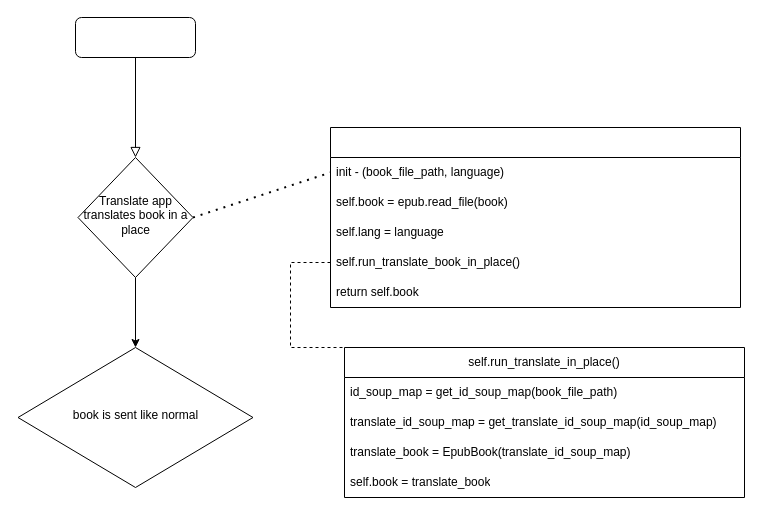
Some shapes in this 762 by 515 pixel diagram are drawn without their labels. The shapes that lost their labels are listed below. From the top down, each one's box as (x1, y1, x2, y2) in pixels, then its label:
(74, 16, 196, 58): book.translate()
(330, 126, 740, 308): TranslateClass
